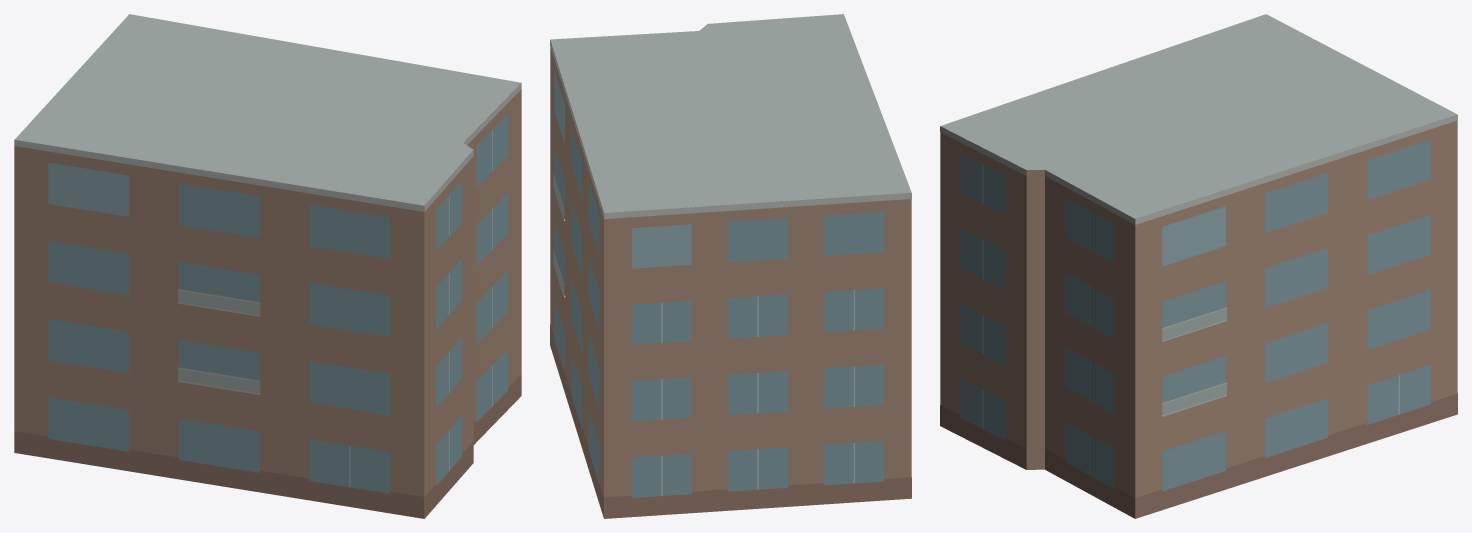
Rendered from survey-upis-32852023.glb.
The picture shows the model from 3 angles, left to right: view 1: azimuth 30°, elevation 25°; view 2: azimuth 150°, elevation 25°; view 3: azimuth 270°, elevation 25°; orthographic projection. The views are drawn at different scales.
Visible parts, largest first — view 1: survey-upis-32852023.tmp; view 2: survey-upis-32852023.tmp; view 3: survey-upis-32852023.tmp.
Part boxes in pixels (x1,y1,x2,y2): survey-upis-32852023.tmp: (14, 14, 521, 518); survey-upis-32852023.tmp: (550, 14, 911, 518); survey-upis-32852023.tmp: (940, 14, 1457, 518).
Size of the model in its own units: 17.9 by 12.2 by 19.09.
